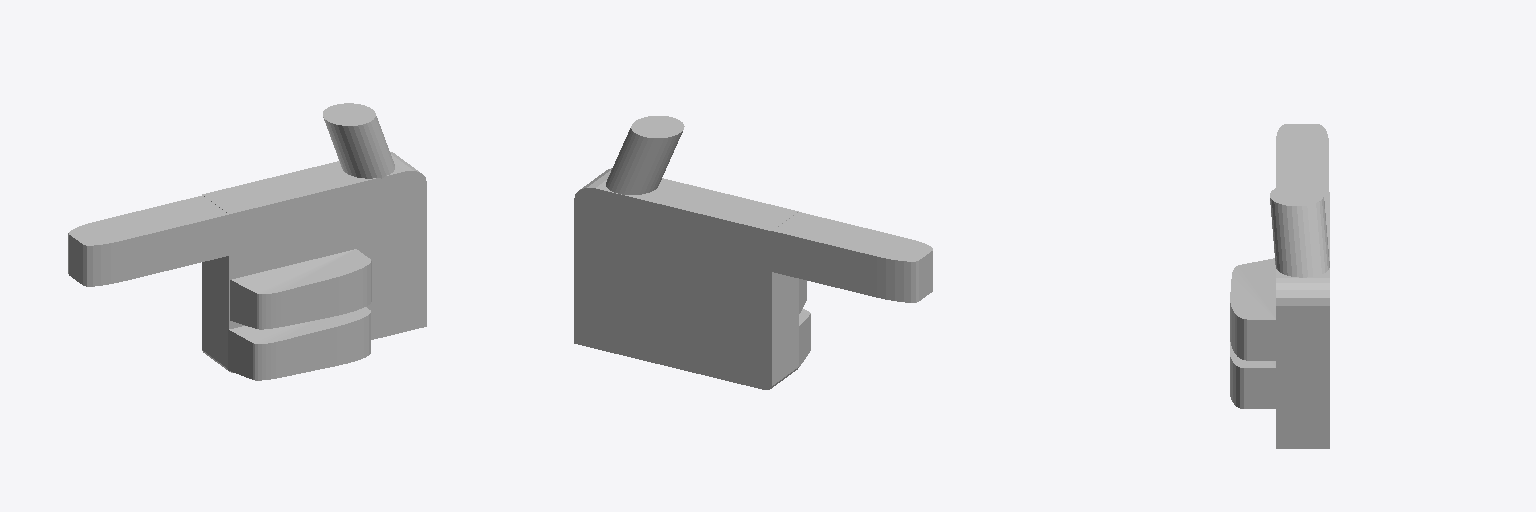
The model's file is hand.obj.
3 renders of one model, left to right at view 1: azimuth 30°, elevation 25°; view 2: azimuth 150°, elevation 25°; view 3: azimuth 270°, elevation 25°, orthographic.
Visible parts, largest first — view 1: Cube.001; view 2: Cube.001; view 3: Cube.001.
Part boxes in pixels (x1,y1,x2,y2): Cube.001: (68, 103, 426, 380); Cube.001: (574, 116, 932, 389); Cube.001: (1230, 124, 1329, 448).
Bounding box in the file's own units: 5.36 × 3.34 × 1.38.